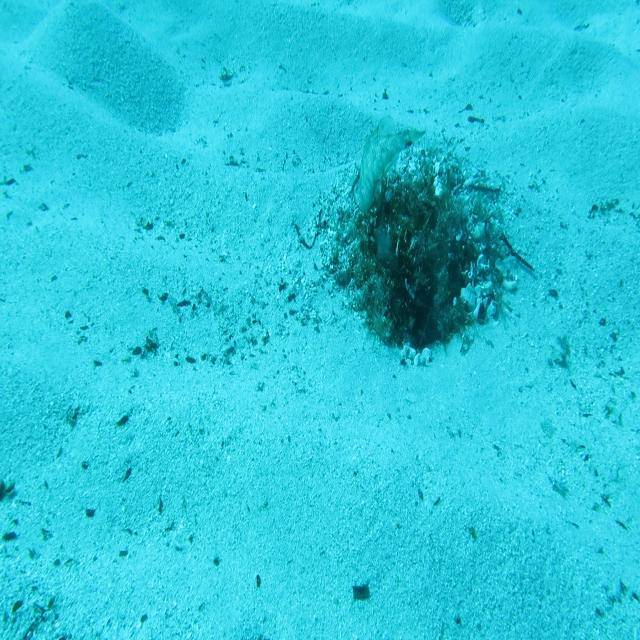NIP_IN: (348, 112, 428, 217)
core_nest: (388, 195, 446, 233)
nest: (310, 134, 524, 378)
